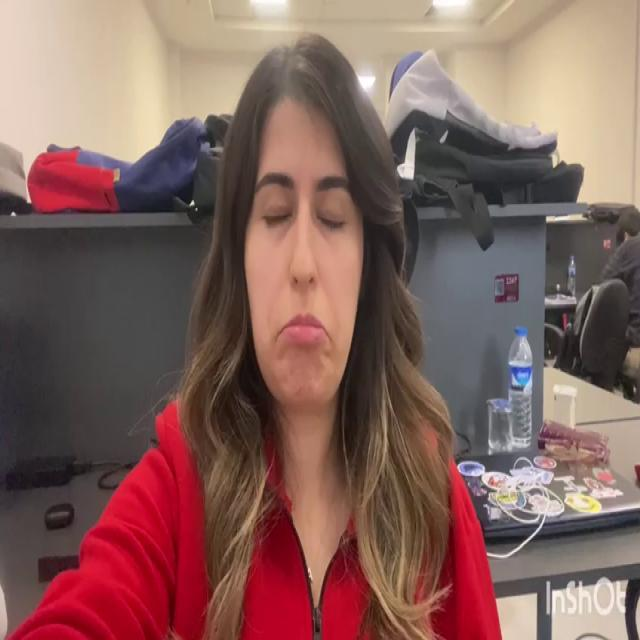sad: (242, 91, 365, 414)
